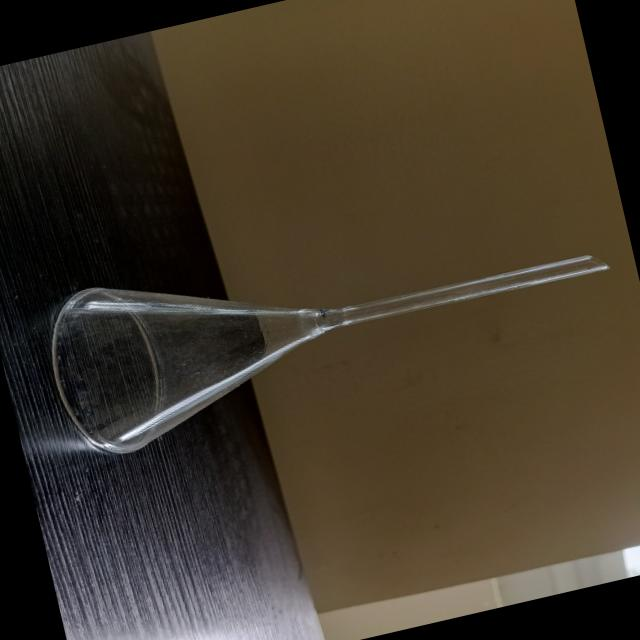funnel: (29, 165, 626, 474)
